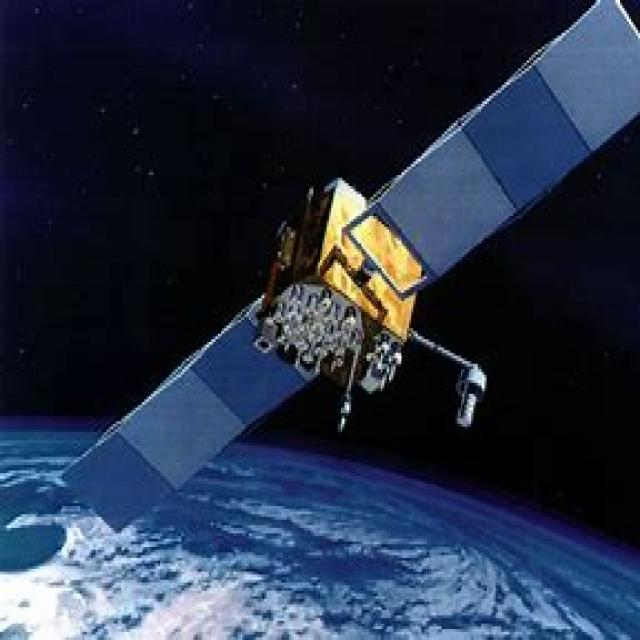satellite: (62, 0, 640, 536)
